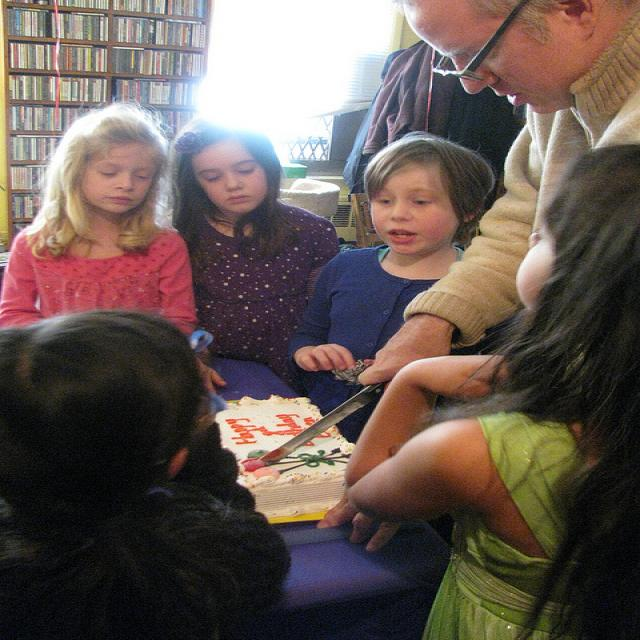chair: (350, 192, 386, 248)
dining table: (206, 350, 448, 631)
